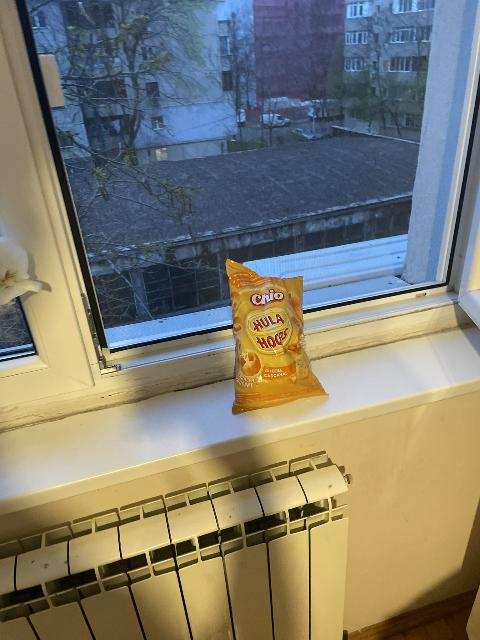Chio Hula Hoops Cheese 70g: (225, 258, 329, 413)
